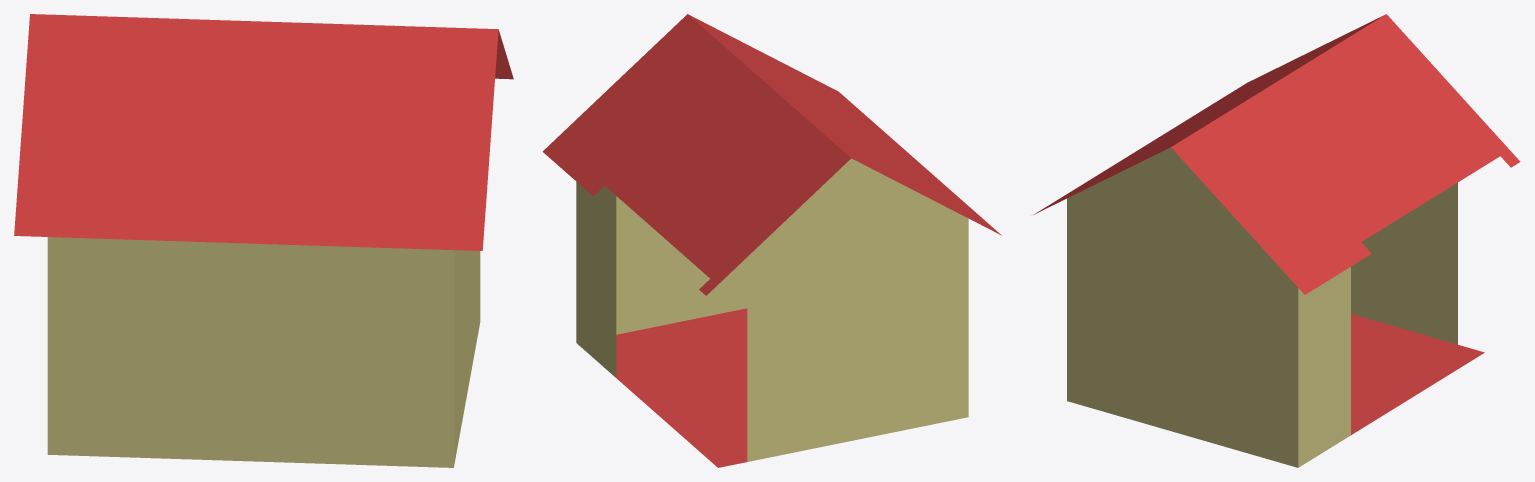
3 renders of one model, left to right at view 1: azimuth 30°, elevation 25°; view 2: azimuth 150°, elevation 25°; view 3: azimuth 270°, elevation 25°, orthographic. The views are drawn at different scales.
Size of the model in its own units: 14.76 by 14.37 by 9.63.
